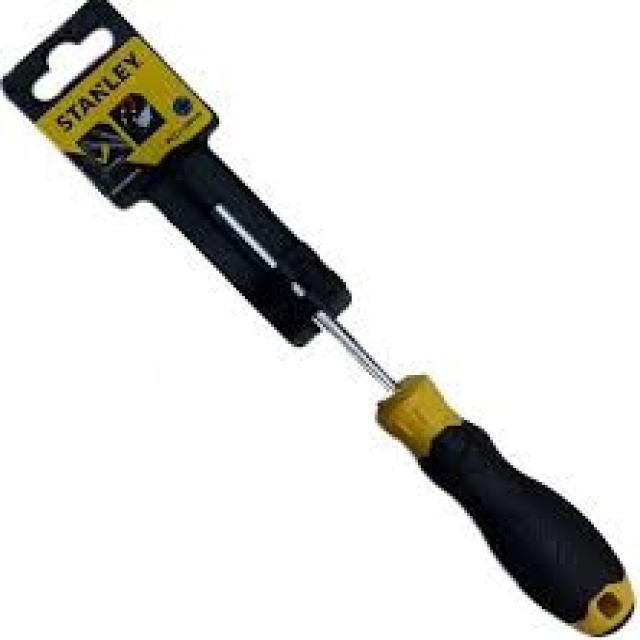screwdriver: (165, 160, 640, 638)
